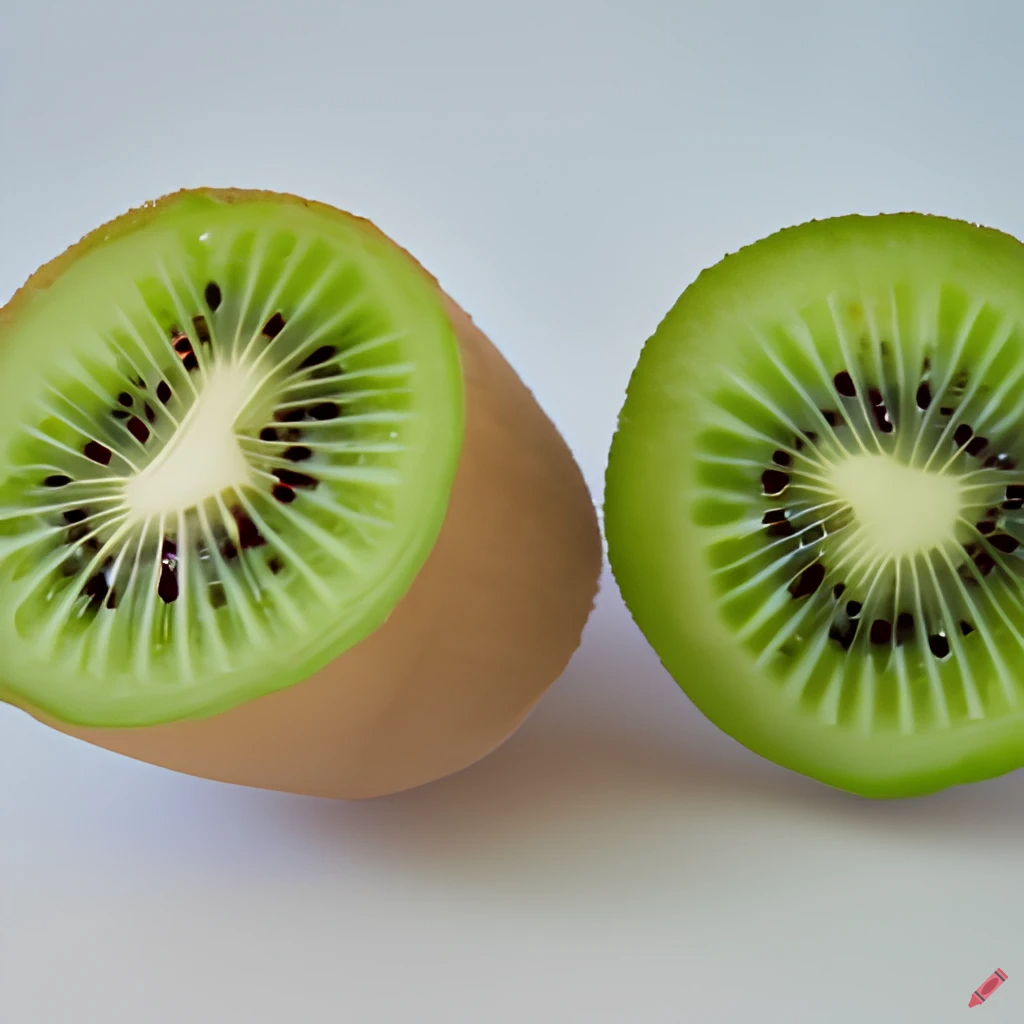Kiwi: (591, 178, 1024, 824)
